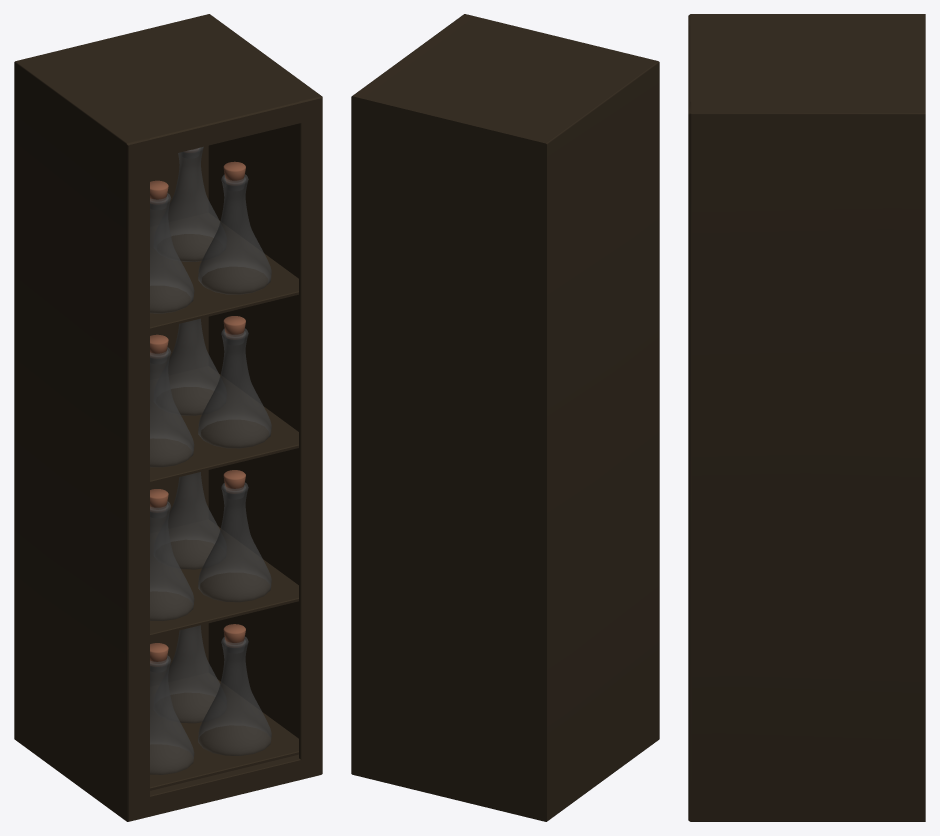
Rendered from potion3_shelf.fbx.
The picture shows the model from 3 angles, left to right: view 1: azimuth 30°, elevation 25°; view 2: azimuth 150°, elevation 25°; view 3: azimuth 270°, elevation 25°; orthographic projection. The views are drawn at different scales.
Parts seen in each view (by area): view 1: shelf_potion3; view 2: shelf_potion3; view 3: shelf_potion3.
Part boxes in pixels (bbox=[...]): shelf_potion3: bbox=[14, 14, 322, 821]; shelf_potion3: bbox=[351, 14, 659, 821]; shelf_potion3: bbox=[688, 14, 925, 821].
Bounding box in the file's own units: 99.62 × 330 × 99.95.
